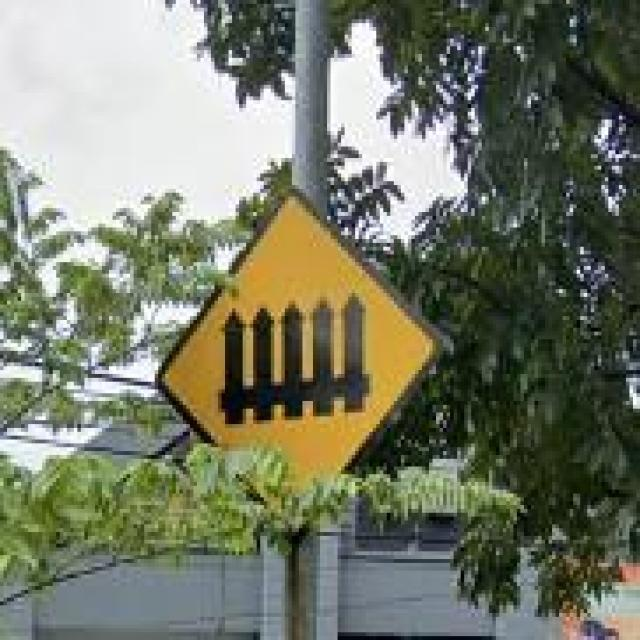traffic sign: (257, 201, 433, 444)
